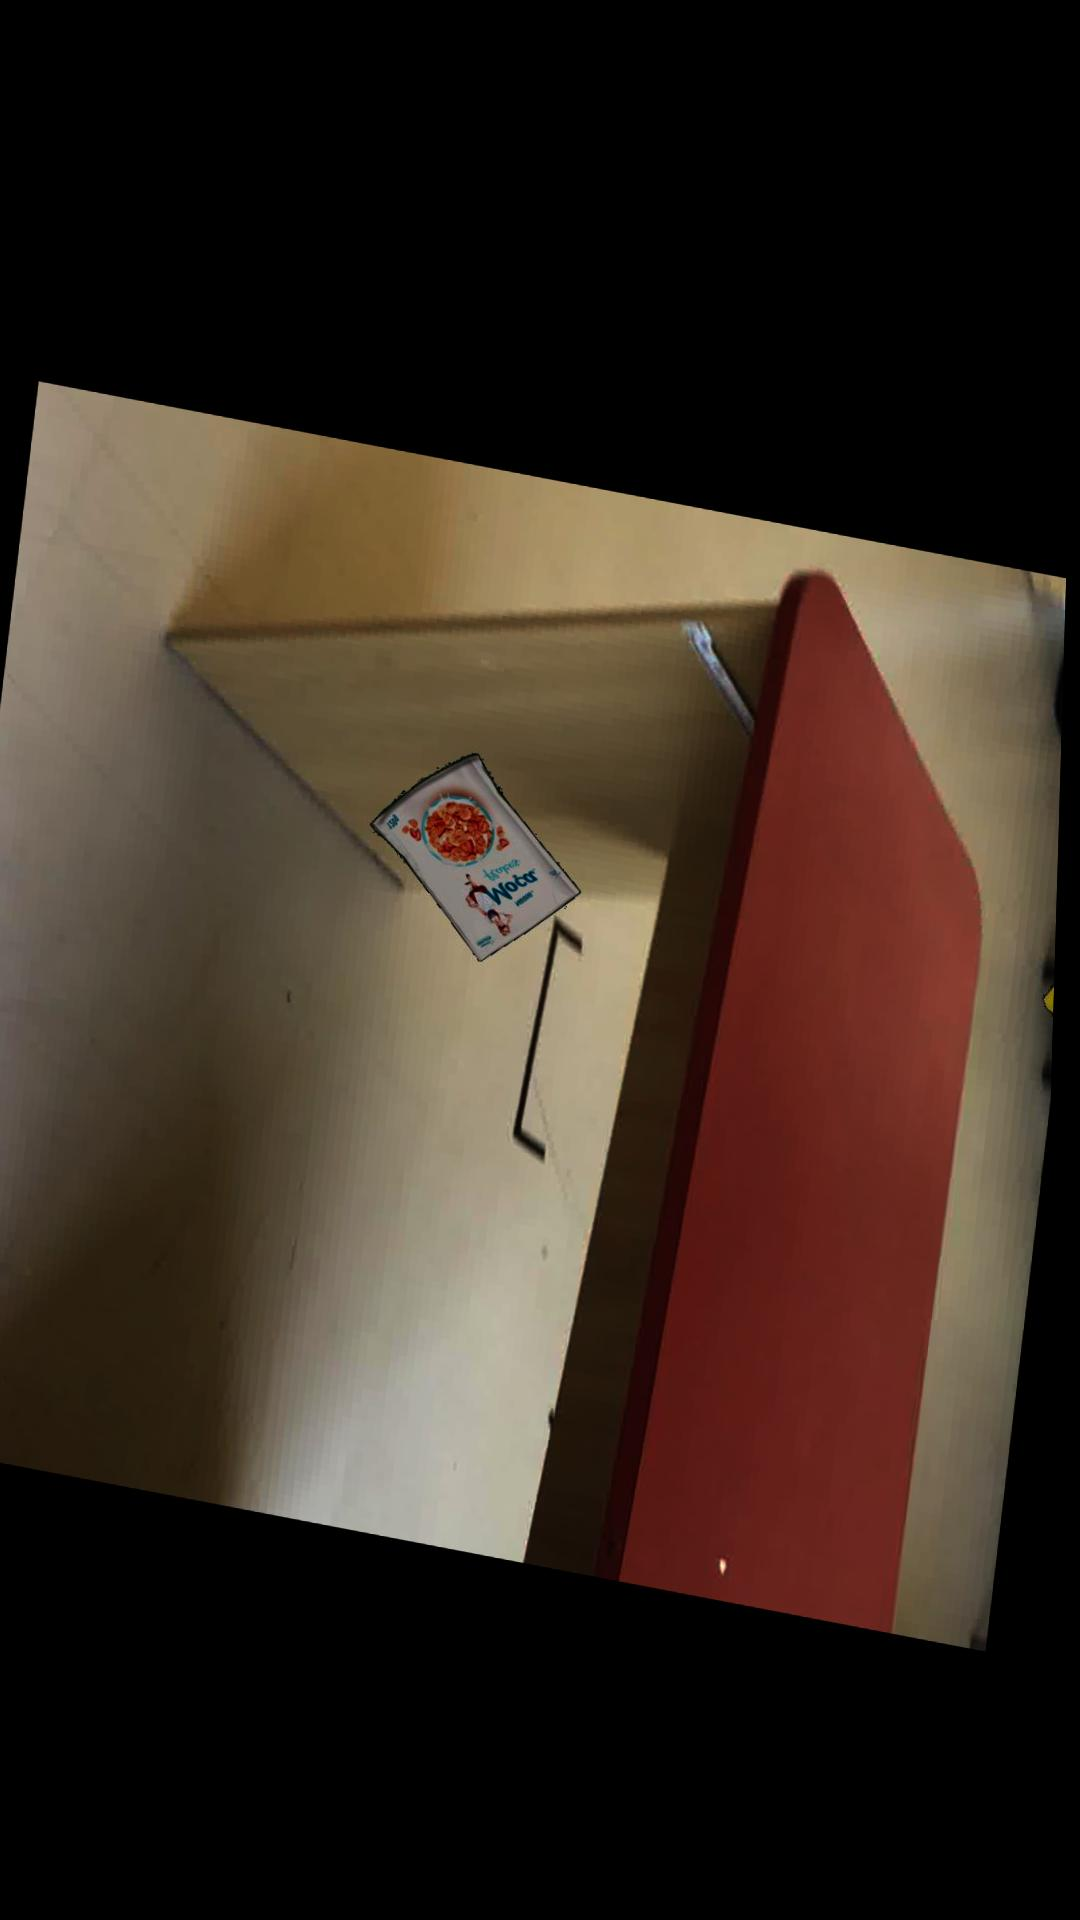corn flakes: (376, 740, 587, 948)
